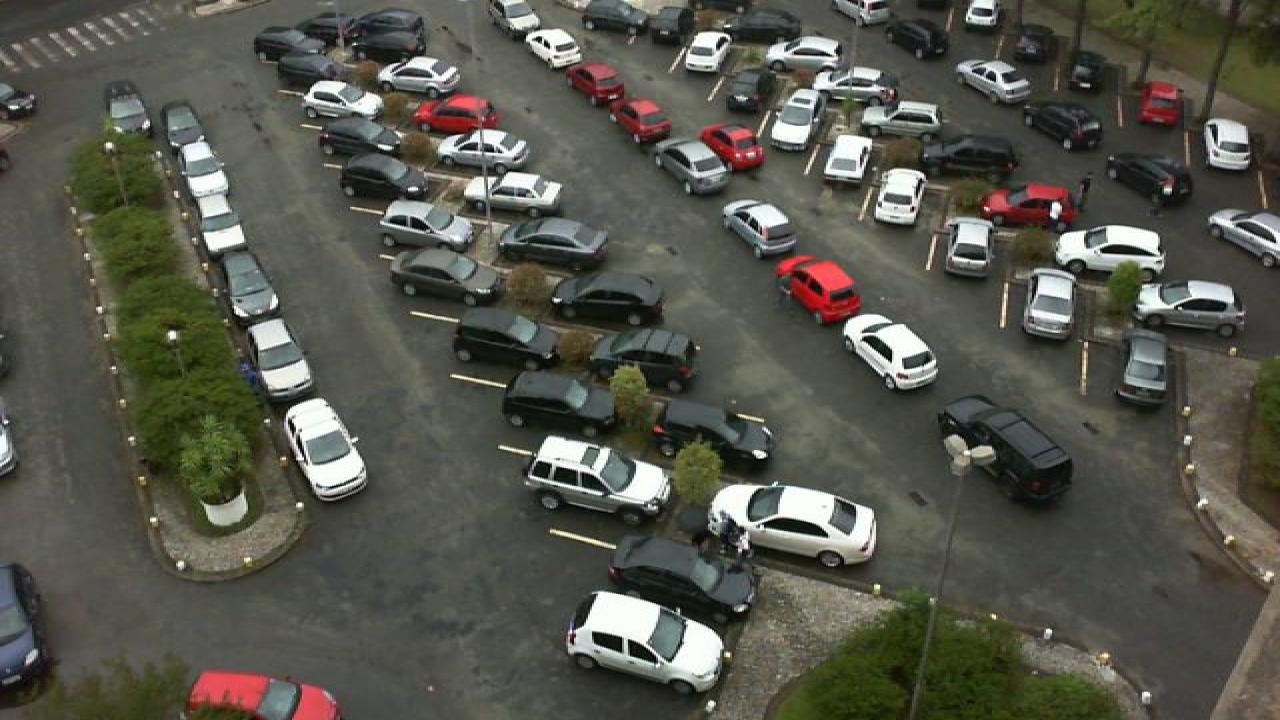Car: (566, 589, 728, 696), (936, 393, 1078, 509), (604, 533, 760, 628), (706, 482, 878, 568), (524, 434, 674, 526), (650, 393, 778, 474), (282, 398, 368, 502), (498, 368, 620, 440), (588, 325, 700, 396), (842, 312, 940, 391), (448, 305, 562, 371), (388, 246, 504, 308), (552, 268, 666, 330), (1132, 278, 1250, 337), (492, 216, 610, 274), (770, 256, 864, 326), (242, 316, 318, 401), (1052, 224, 1170, 278), (376, 197, 476, 253), (718, 199, 802, 261), (458, 172, 564, 221), (978, 182, 1076, 232), (1104, 150, 1194, 204), (336, 151, 432, 201), (920, 133, 1022, 179), (654, 138, 732, 197), (1020, 266, 1080, 342), (1206, 208, 1280, 269), (1114, 326, 1170, 406), (220, 252, 282, 320), (314, 116, 404, 162), (376, 54, 464, 98), (436, 128, 528, 170), (1020, 104, 1104, 150), (812, 64, 902, 106), (940, 215, 998, 280), (764, 88, 824, 150), (412, 92, 498, 134), (300, 80, 390, 120), (954, 58, 1032, 104), (858, 98, 944, 138), (818, 133, 878, 190), (606, 97, 674, 146), (276, 52, 356, 93), (764, 35, 844, 76), (560, 60, 628, 108), (700, 121, 766, 170), (176, 142, 230, 201), (726, 63, 786, 116), (194, 197, 250, 253), (870, 168, 924, 226), (884, 18, 952, 62), (1200, 117, 1254, 171), (346, 33, 422, 71), (726, 7, 802, 44), (524, 28, 590, 70), (252, 26, 330, 61), (578, 0, 652, 36), (160, 101, 210, 154), (104, 79, 152, 134), (1136, 79, 1190, 127), (682, 28, 734, 77), (356, 8, 426, 40), (1066, 46, 1110, 95), (648, 3, 700, 44), (486, 0, 542, 36), (1006, 23, 1052, 63)
